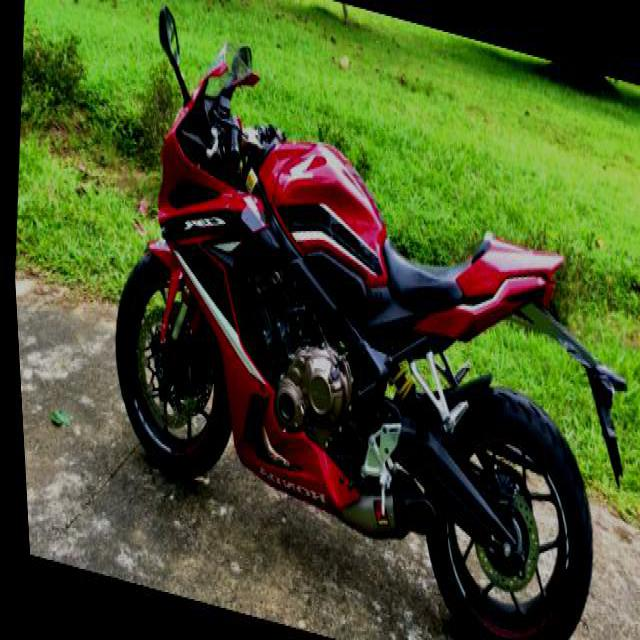CBR650R: (73, 4, 631, 638)
